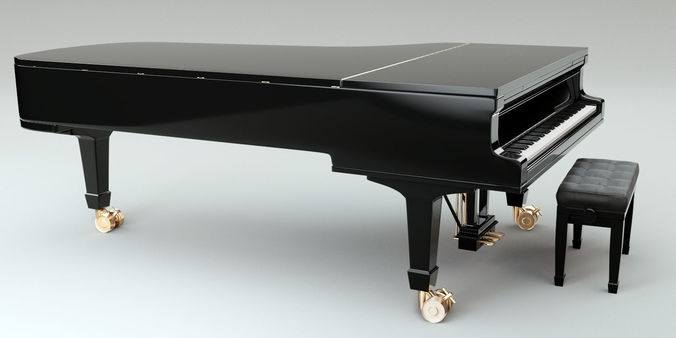GrandPiano: (12, 32, 561, 214)
